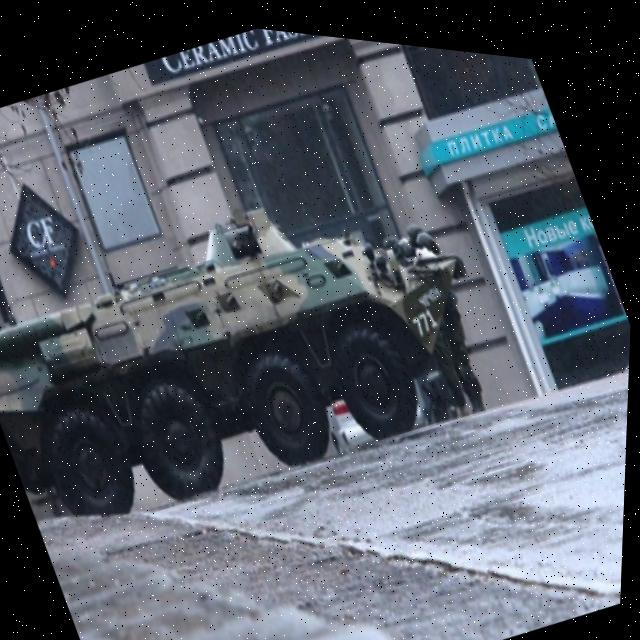MIL_APC: (0, 81, 525, 593)
